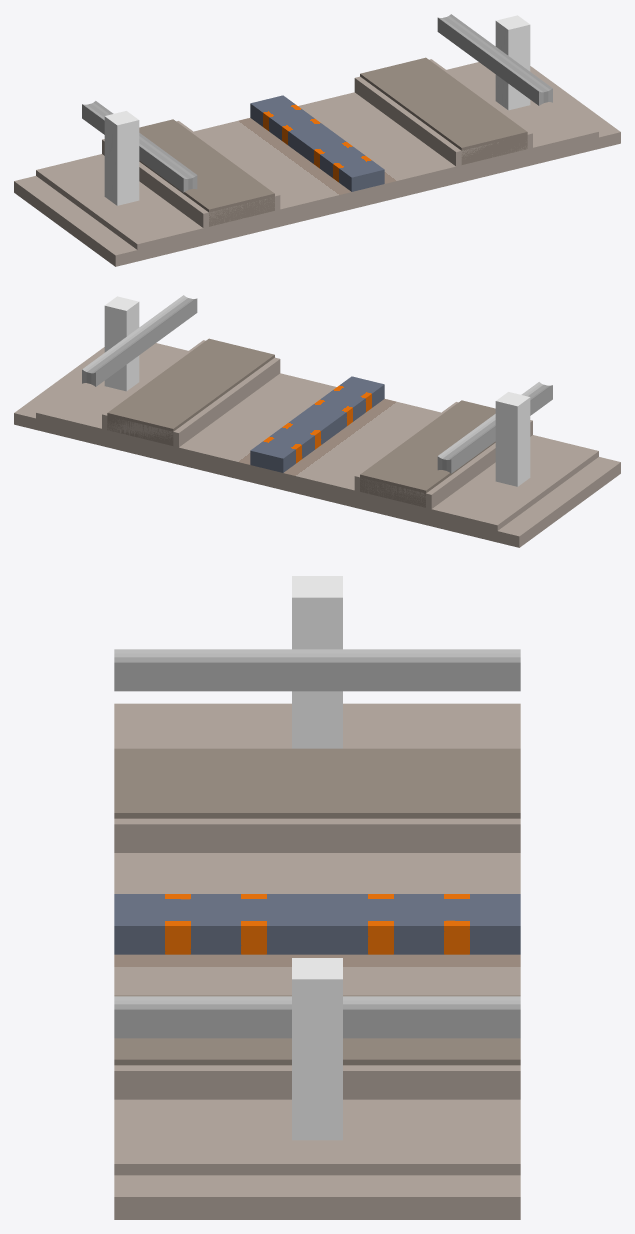
Rendered from agtrail.obj.
3 renders of one model, top to bottom at view 1: azimuth 30°, elevation 25°; view 2: azimuth 150°, elevation 25°; view 3: azimuth 270°, elevation 25°, orthographic. The views are drawn at different scales.
Visible parts, largest first — view 1: rail; view 2: rail; view 3: rail.
Part boxes in pixels (x1=…): rail: x1=14, y1=14, x2=620, y2=266; rail: x1=14, y1=295, x2=620, y2=547; rail: x1=114, y1=576, x2=520, y2=1219.
Bounding box in the file's own units: 2.88 × 0.5312 × 1.
Materials: 1 (1 with a texture image).
